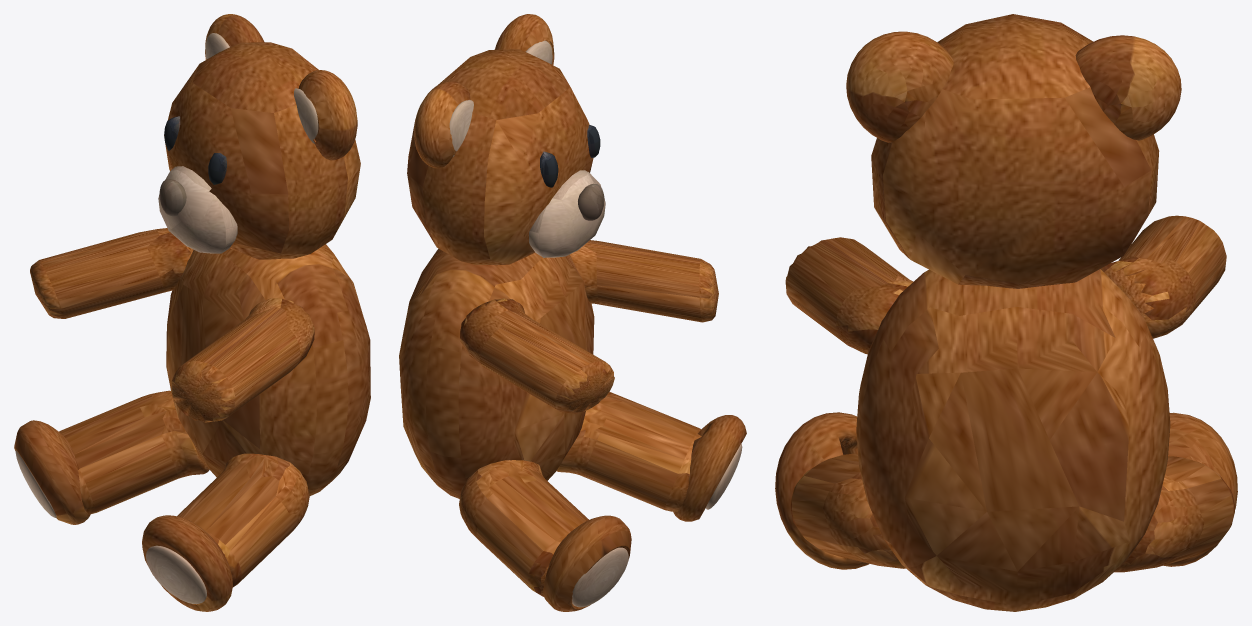
Rendered from 小熊玩偶(reduce).fbx.
3 renders of one model, left to right at view 1: azimuth 30°, elevation 25°; view 2: azimuth 150°, elevation 25°; view 3: azimuth 270°, elevation 25°, orthographic. The views are drawn at different scales.
Visible parts, largest first — view 1: Box001, Box002, Cylinder001, Cylinder004, Cylinder002, Cylinder003, Sphere010, Sphere003, Box003, Sphere015, Sphere007, Sphere014 (+4 smaller); view 2: Box001, Box002, Cylinder002, Cylinder003, Cylinder001, Cylinder004, Sphere010, Sphere003, Box003, Sphere014, Sphere009, Sphere015 (+4 smaller); view 3: Box001, Box002, Cylinder003, Cylinder004, Sphere015, Sphere014, Cylinder001, Cylinder002, Sphere003, Sphere010.
Boxes of the visible parts, x1,y1,x2,y2 form: Box001: (166, 244, 370, 496); Box002: (164, 42, 360, 259); Cylinder001: (59, 390, 209, 514); Cylinder004: (170, 298, 314, 422); Cylinder002: (177, 453, 309, 587); Cylinder003: (30, 228, 193, 318); Sphere010: (14, 420, 90, 524); Sphere003: (142, 515, 232, 611); Box003: (158, 166, 237, 253); Sphere015: (298, 70, 357, 160); Sphere007: (146, 545, 206, 604); Sphere014: (205, 14, 264, 59); Box001: (399, 248, 594, 498); Box002: (407, 49, 593, 265); Cylinder002: (556, 392, 701, 511); Cylinder003: (460, 298, 614, 413); Cylinder001: (459, 460, 588, 596); Cylinder004: (570, 240, 718, 322); Sphere010: (543, 515, 631, 611); Sphere003: (673, 415, 746, 521); Box003: (529, 170, 605, 257); Sphere014: (414, 81, 470, 168); Sphere009: (572, 547, 628, 607); Sphere015: (495, 14, 554, 64); Box001: (856, 269, 1170, 611); Box002: (871, 14, 1159, 288); Cylinder003: (1100, 215, 1226, 338); Cylinder004: (785, 237, 913, 354); Sphere015: (846, 31, 953, 142); Sphere014: (1075, 35, 1181, 140); Cylinder001: (1114, 456, 1235, 572); Cylinder002: (790, 453, 905, 568); Sphere003: (775, 412, 869, 569); Sphere010: (1163, 412, 1237, 566).
Size of the model in its own units: 29.67 by 51.85 by 34.62.
Materials: 5 (5 with a texture image).
